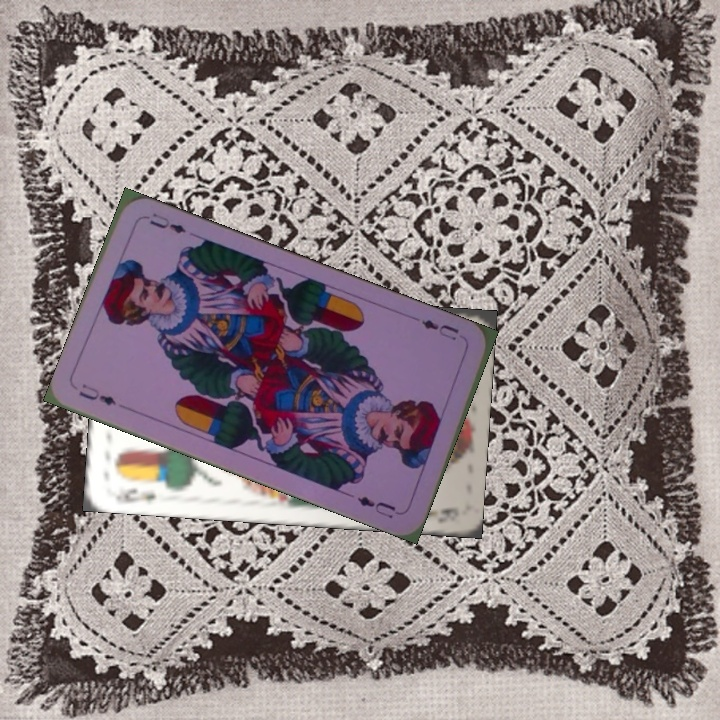EK: (111, 482, 158, 506)
EU: (74, 379, 119, 408), (417, 315, 462, 343)
